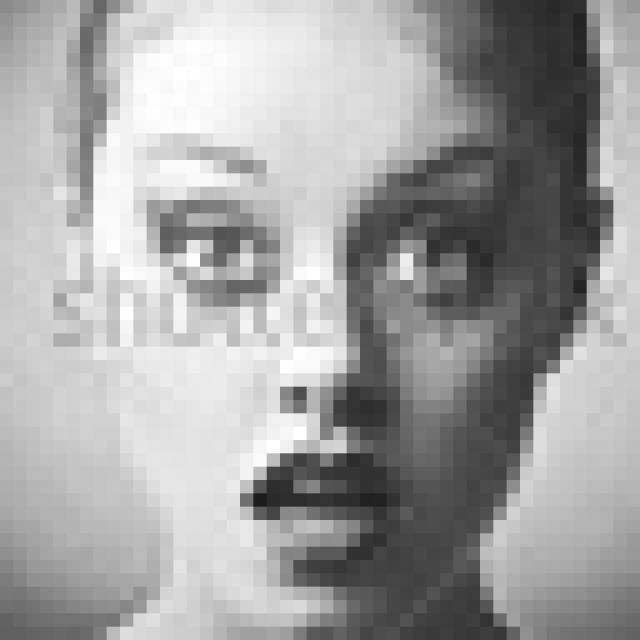surprise: (135, 123, 512, 594)
